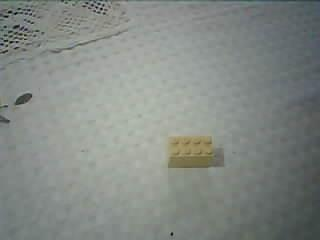lego: (165, 134, 215, 168)
